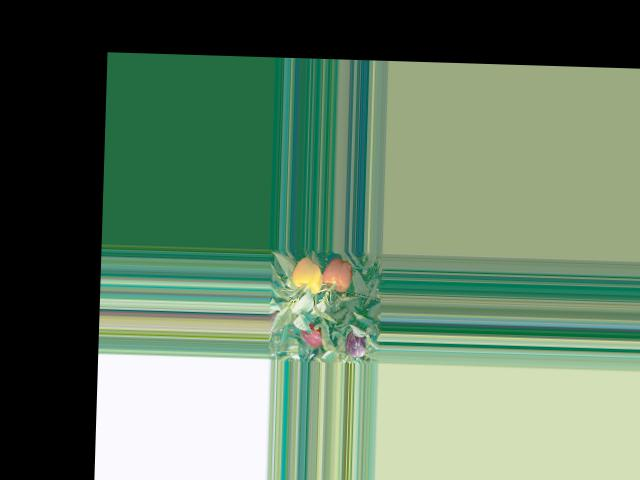bell_pepper: (291, 258, 330, 295)
